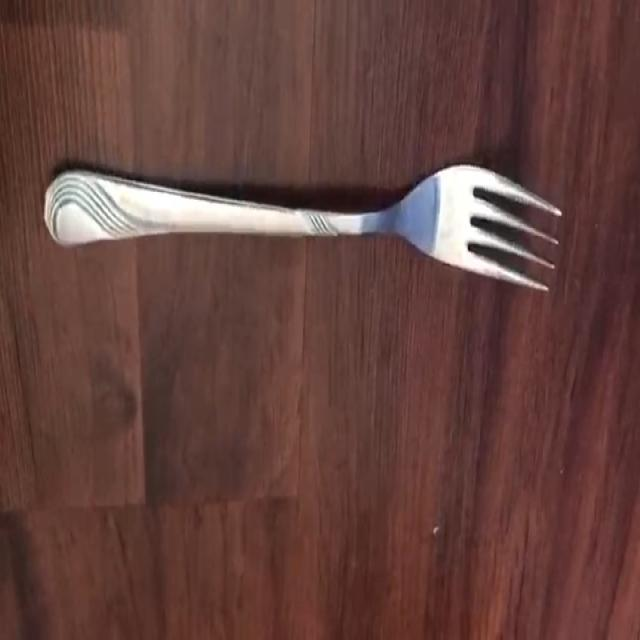spoon: (44, 164, 564, 292)
